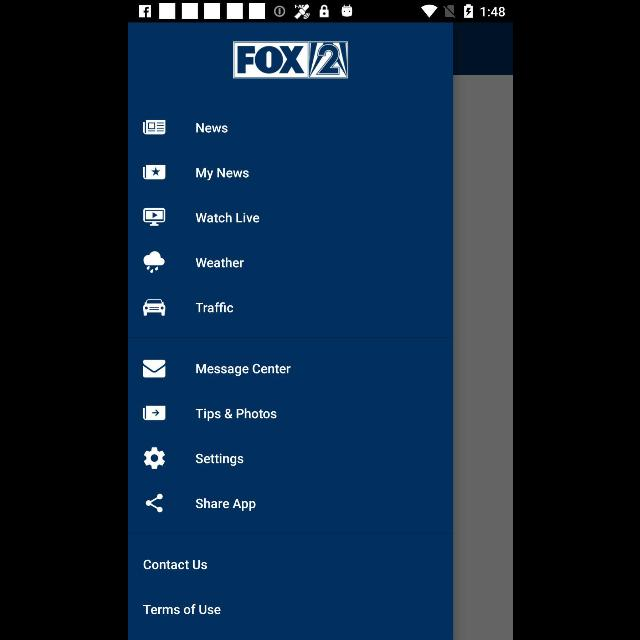icon: (143, 447, 165, 469), (142, 360, 166, 378), (142, 208, 166, 226), (142, 164, 166, 180), (142, 120, 164, 136), (142, 406, 166, 420), (146, 493, 162, 512)
image: (232, 41, 348, 79), (142, 251, 164, 273), (142, 300, 166, 316)
panel: (128, 22, 452, 640)
text: (194, 408, 276, 422), (196, 364, 290, 376), (142, 604, 220, 614), (195, 212, 259, 224), (194, 498, 256, 510), (143, 560, 207, 570), (196, 168, 248, 180), (195, 454, 243, 466), (194, 258, 243, 268), (195, 302, 233, 314), (195, 123, 227, 133)
uppertaskbar: (128, 1, 512, 23)
